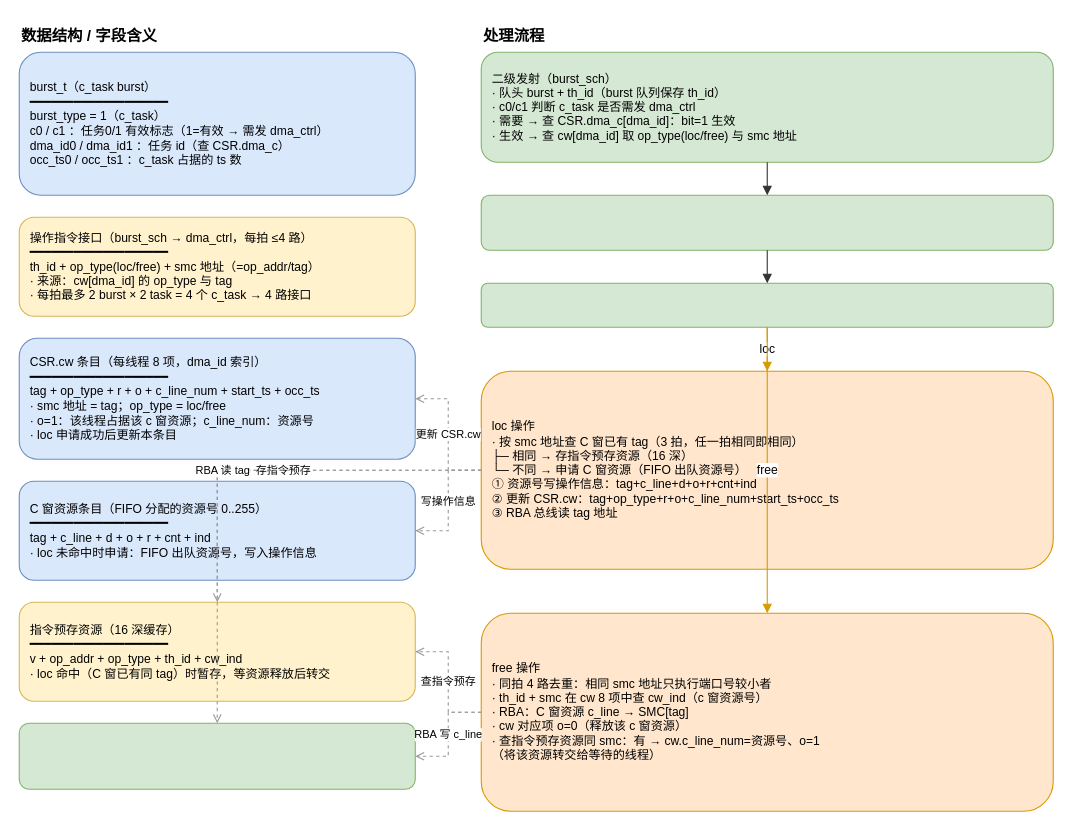
The diagram is 1073 pixels wide and 831 high, and some of its shapes have lost their labels. The centre of each missing label's shape, as x and y in pixels:
"dma_ctrl 按 op_type 分发" belongs at [766,304].
"SMC 缓存 ━━━━━━━━━━━━━━━━━━━ tag 地址 → c_line（free 时经 RBA 写入）" belongs at [216,755].
"生成操作指令（每拍 ≤4 路，带 th_id） {th_id, op_type, smc} → dma_ctrl" belongs at [766,222].
